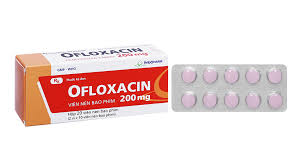Ofloxacin: (67, 80, 150, 102), (62, 46, 139, 60)
